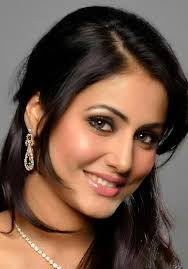indian_female: (40, 40, 171, 216)
